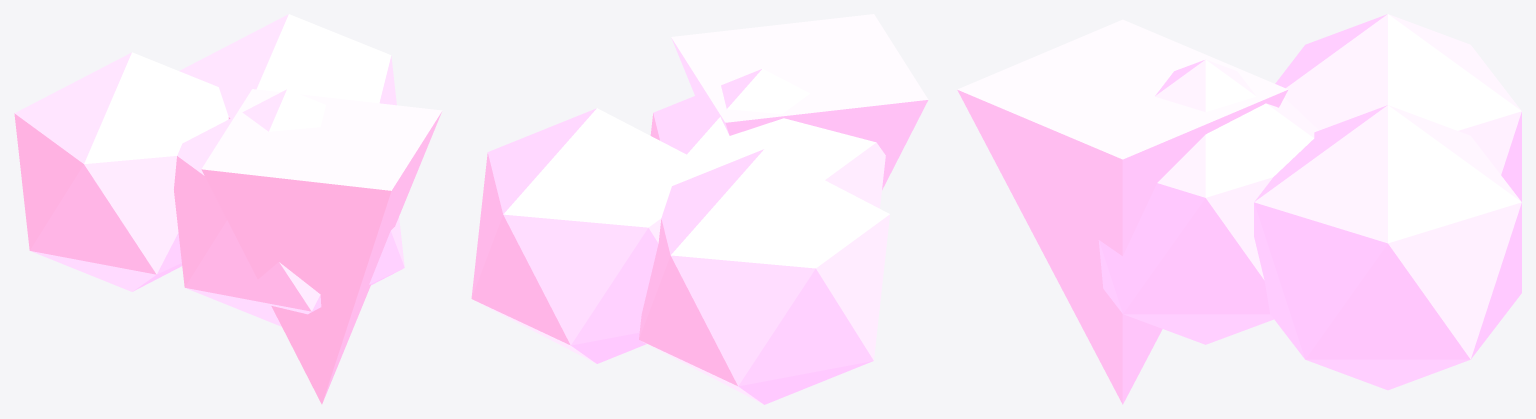
File: heart.glb
3 renders of one model, left to right at view 1: azimuth 30°, elevation 25°; view 2: azimuth 150°, elevation 25°; view 3: azimuth 270°, elevation 25°, orthographic. The views are drawn at different scales.
Visible parts, largest first — view 1: PangHeartLobe0; view 2: PangHeartLobe0; view 3: PangHeartLobe0.
Part boxes in pixels (bbox=[...]): PangHeartLobe0: bbox=[14, 14, 442, 404]; PangHeartLobe0: bbox=[471, 14, 928, 404]; PangHeartLobe0: bbox=[957, 14, 1521, 404].
Bounding box in the file's own units: 0.5999 × 0.46 × 0.6816.
